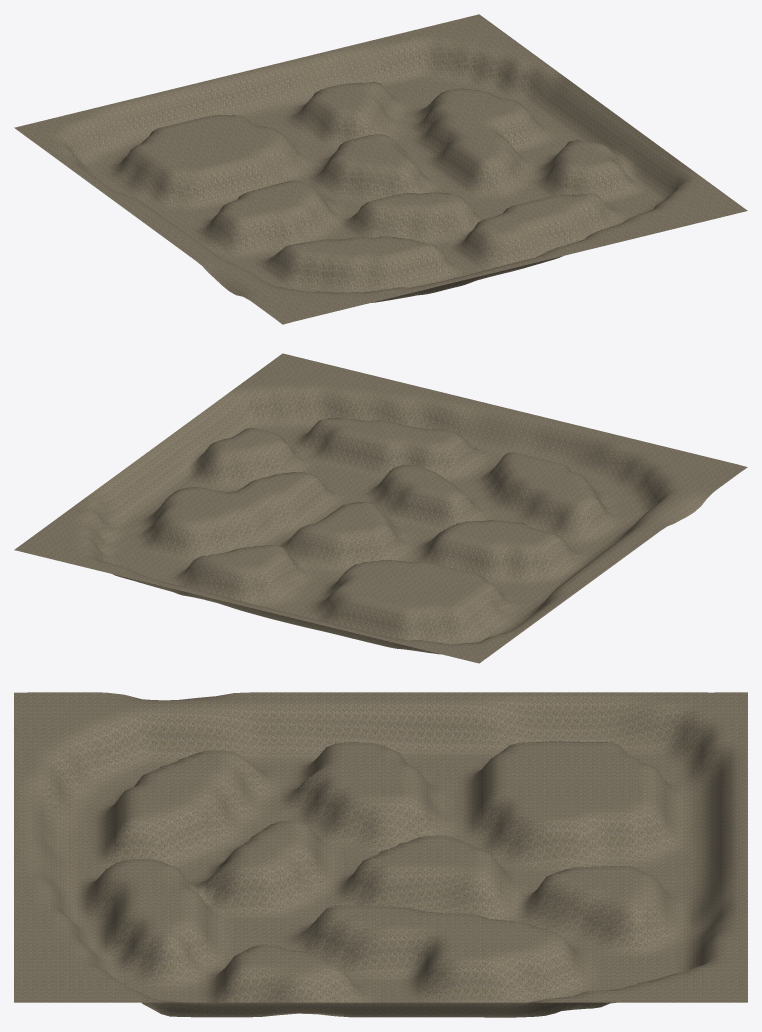
Rendered from map01.FBX.
3 renders of one model, top to bottom at view 1: azimuth 30°, elevation 25°; view 2: azimuth 150°, elevation 25°; view 3: azimuth 270°, elevation 25°, orthographic. The views are drawn at different scales.
Parts seen in each view (by area): view 1: map01; view 2: map01; view 3: map01.
Boxes of the visible parts, x1,y1,x2,y2 form: map01: (14,14,747,324); map01: (14,353,747,663); map01: (14,692,747,1017).
Size of the model in its own units: 400 by 400 by 20.
1 material, 1 textured.
